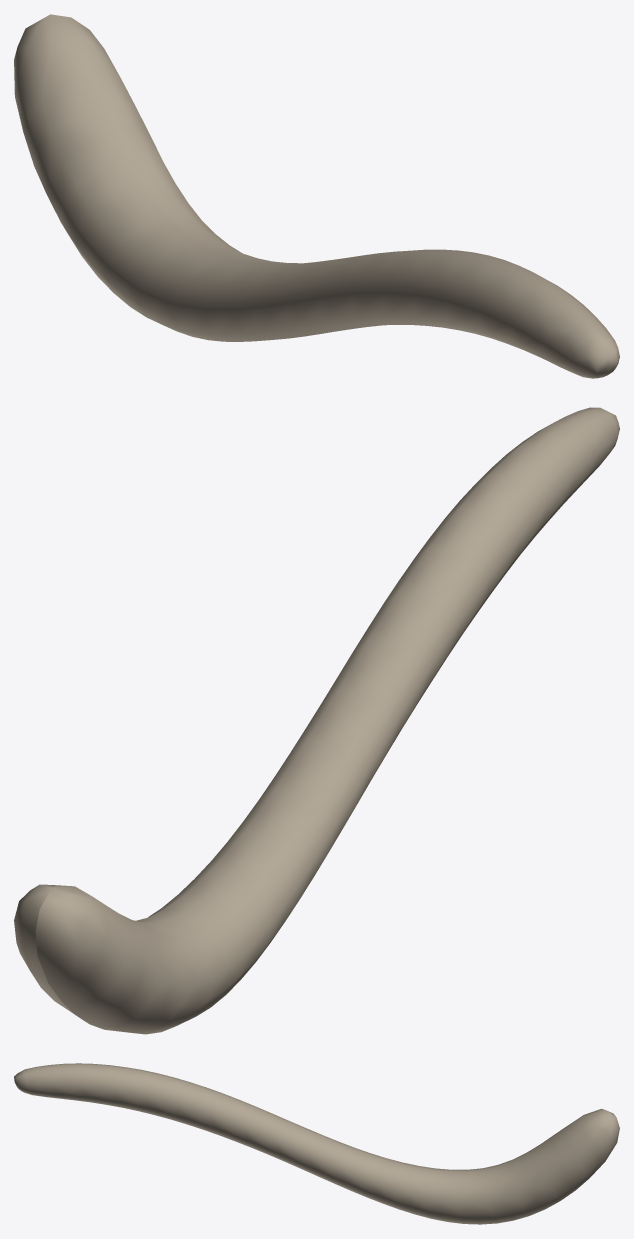
Rendered from cattail.glb.
3 views of the same model, one above another, from view 1: azimuth 30°, elevation 25°; view 2: azimuth 150°, elevation 25°; view 3: azimuth 270°, elevation 25° (orthographic). The views are drawn at different scales.
Visible parts, largest first — view 1: cattail_0; view 2: cattail_0; view 3: cattail_0.
Boxes of the visible parts, left/top/right/bottom form: cattail_0: left=14, top=14, right=619, bottom=378; cattail_0: left=14, top=407, right=619, bottom=1034; cattail_0: left=14, top=1063, right=619, bottom=1224.
Bounding box in the file's own units: 0.081 × 0.2206 × 0.768.
